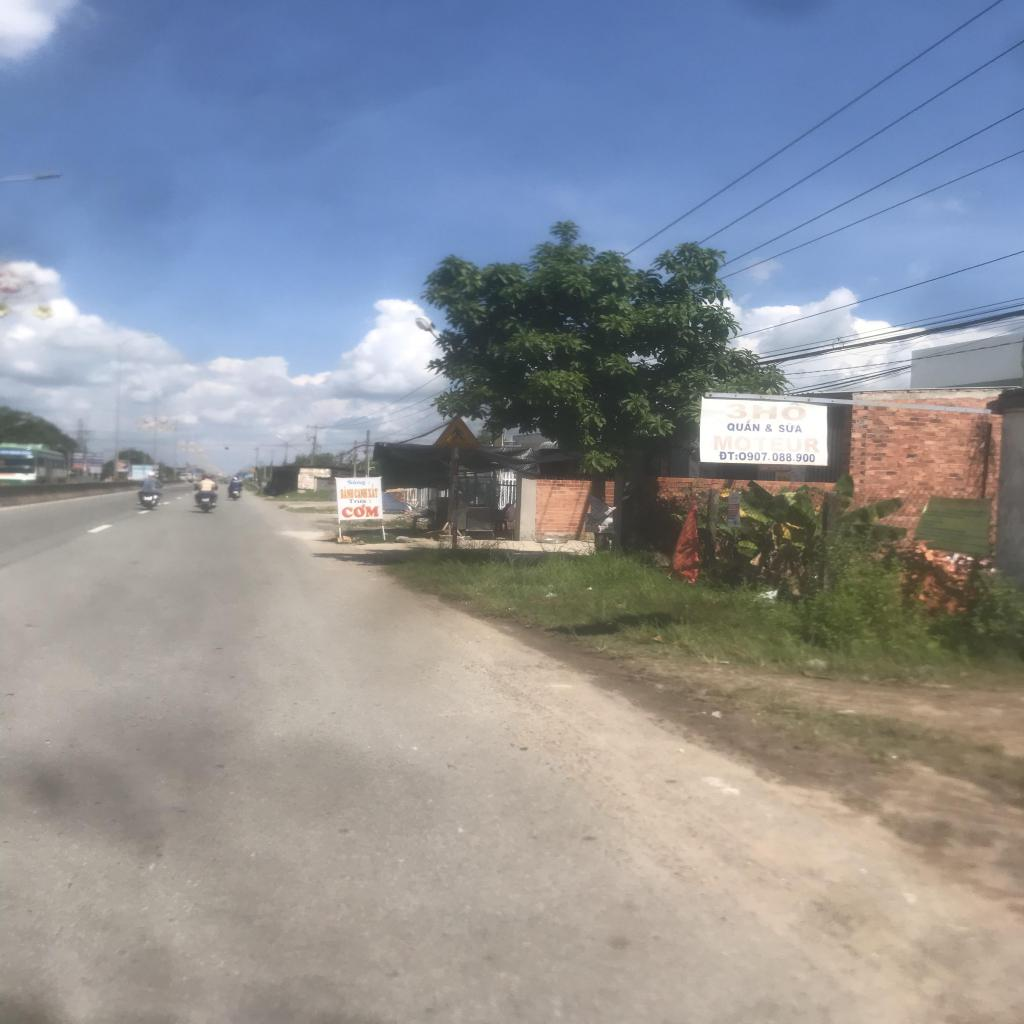chu_y_nguoi_di_bo_cat_ngang: (432, 413, 483, 448)
